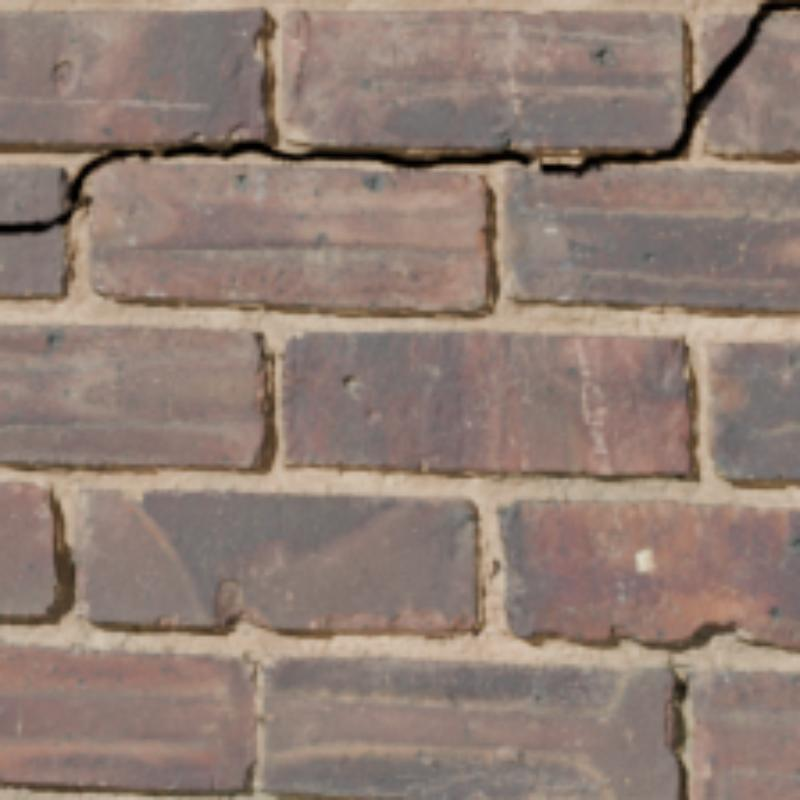pothole: (0, 0, 796, 232)
